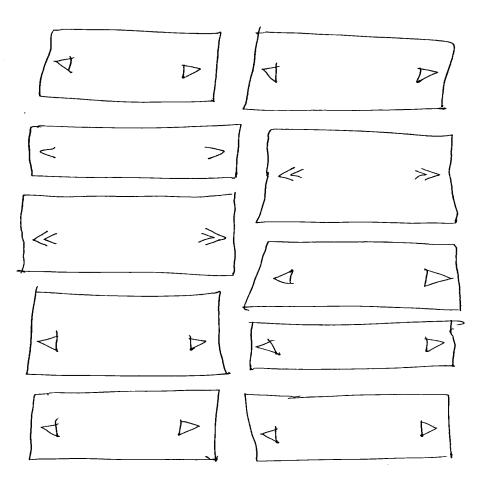Carousel: (256, 130, 459, 225), (16, 192, 237, 277), (26, 287, 231, 377), (244, 27, 456, 112), (243, 242, 462, 312), (245, 394, 453, 462), (30, 391, 221, 463), (40, 30, 222, 103), (29, 125, 242, 180), (248, 321, 465, 372)
